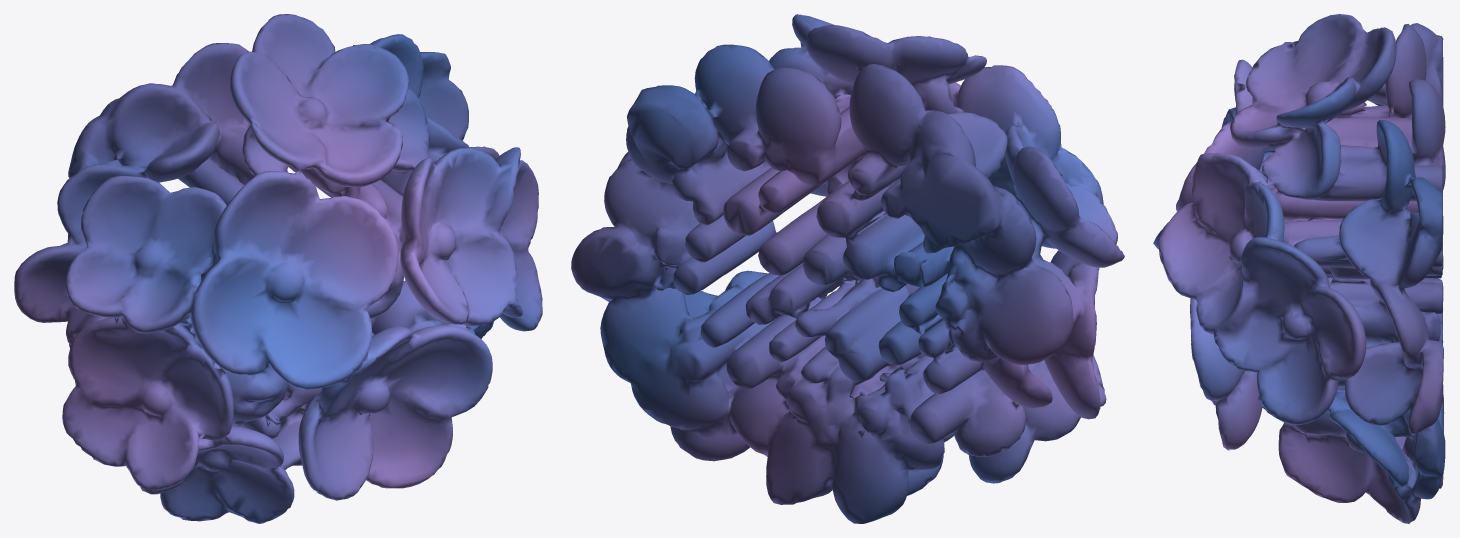
Rendered from hydrangea.glb.
3 renders of one model, left to right at view 1: azimuth 30°, elevation 25°; view 2: azimuth 150°, elevation 25°; view 3: azimuth 270°, elevation 25°, orthographic. The views are drawn at different scales.
Visible parts, largest first — view 1: hydrangea; view 2: hydrangea; view 3: hydrangea.
Part boxes in pixels (x1,y1,x2,y2): hydrangea: [14, 14, 542, 523]; hydrangea: [571, 14, 1124, 523]; hydrangea: [1153, 14, 1445, 523].
Bounding box in the file's own units: 1 × 0.9013 × 0.5411.
